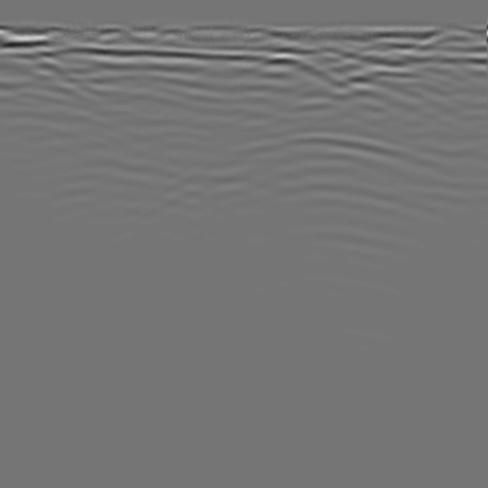hyperbola: (195, 120, 469, 260)
